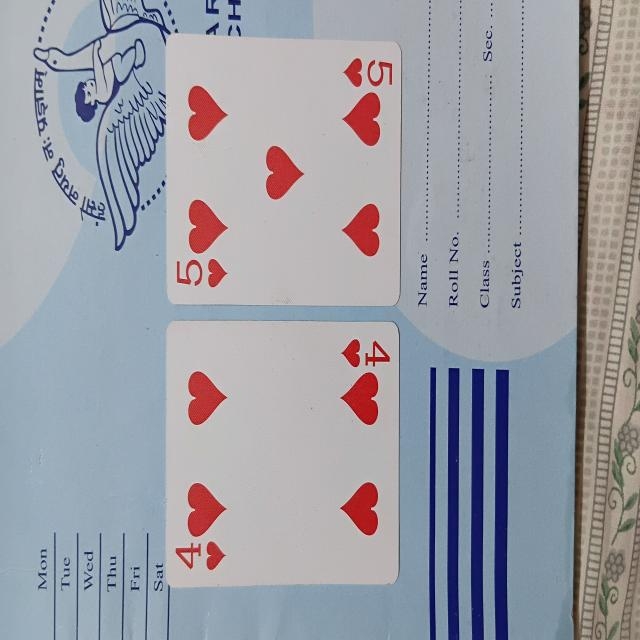4H: (162, 324, 398, 582)
5H: (164, 33, 402, 308)
